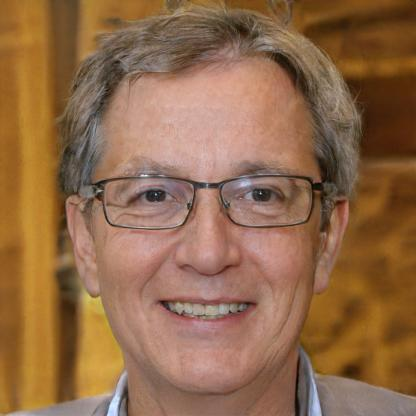glasses: (86, 172, 321, 236)
